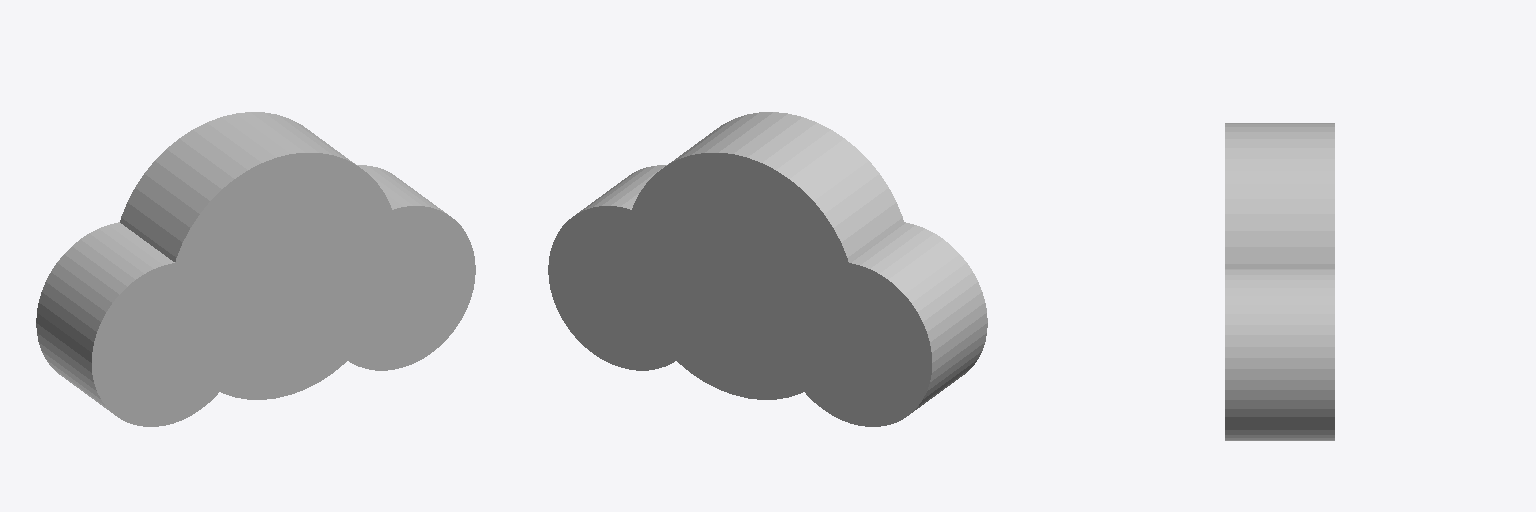
The model's file is cloud.obj.
3 views of the same model, side by side, from view 1: azimuth 30°, elevation 25°; view 2: azimuth 150°, elevation 25°; view 3: azimuth 270°, elevation 25° (orthographic).
Parts seen in each view (by area): view 1: pCylinder4; view 2: pCylinder4; view 3: pCylinder4.
Boxes of the visible parts, x1=… form: pCylinder4: x1=36, y1=112, x2=475, y2=426; pCylinder4: x1=548, y1=112, x2=987, y2=426; pCylinder4: x1=1225, y1=123, x2=1334, y2=440.
Bounding box in the file's own units: 20 × 11.98 × 5.